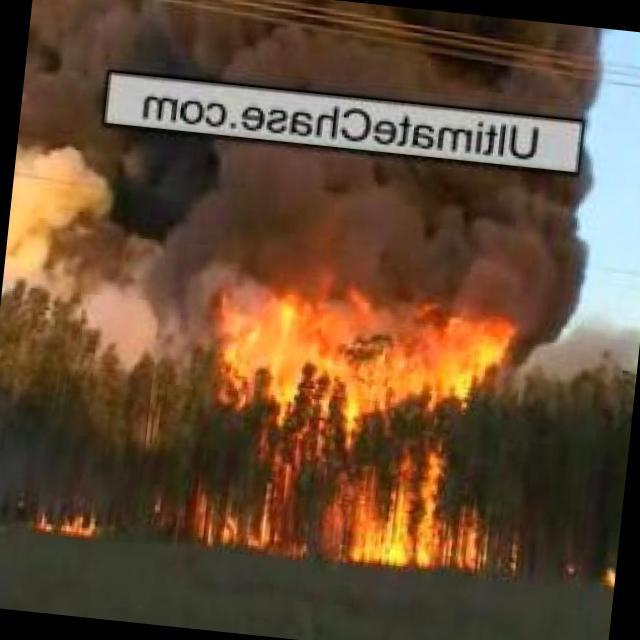Fire: (175, 282, 516, 573), (23, 512, 101, 540), (598, 565, 617, 595)
